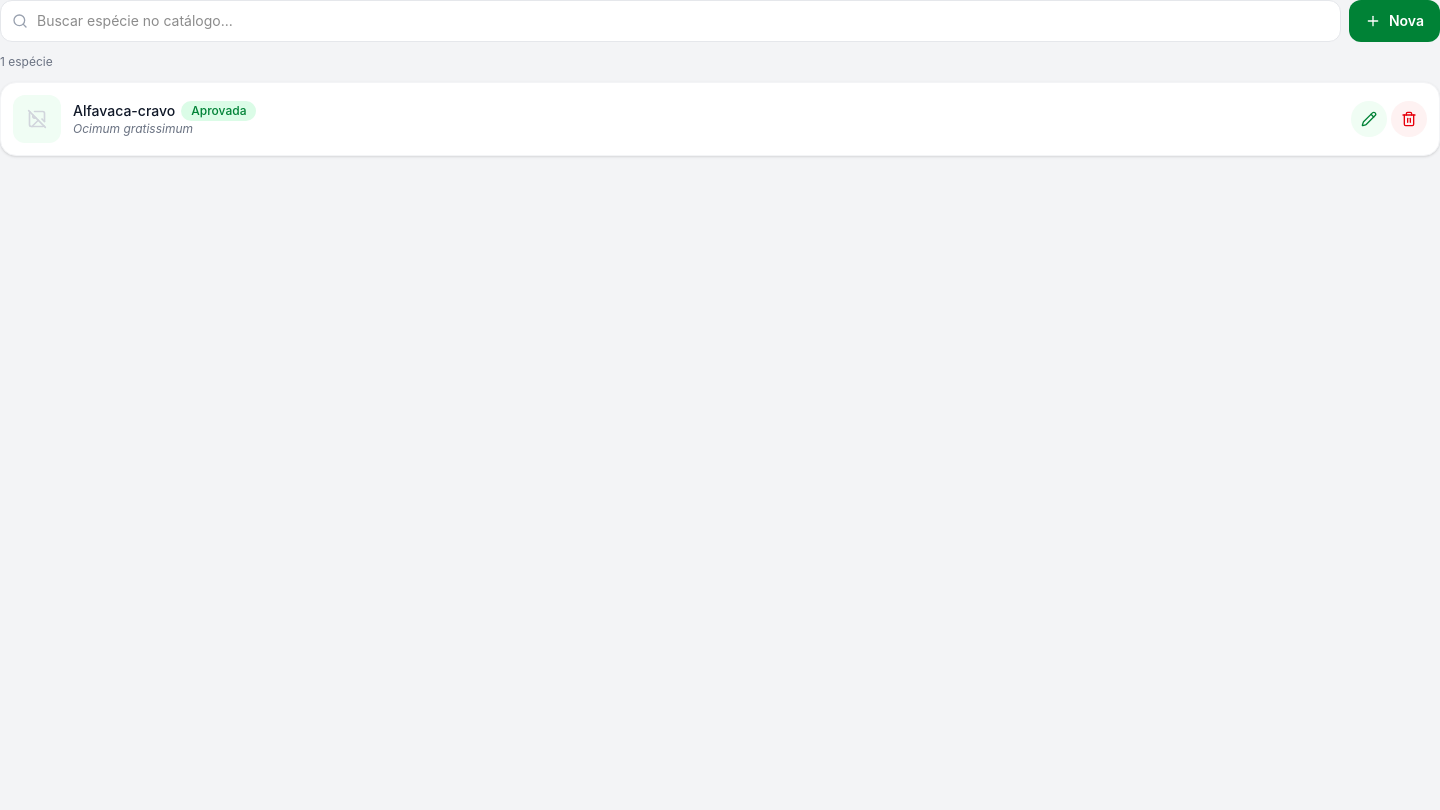
Test case: SpeciesCatalogManager › edita uma espécie existente pelo formulário pré-preenchido
Step 1. Click the button named "editar alfavaca-cravo" → [1369, 119], box [1351,101,1387,137]
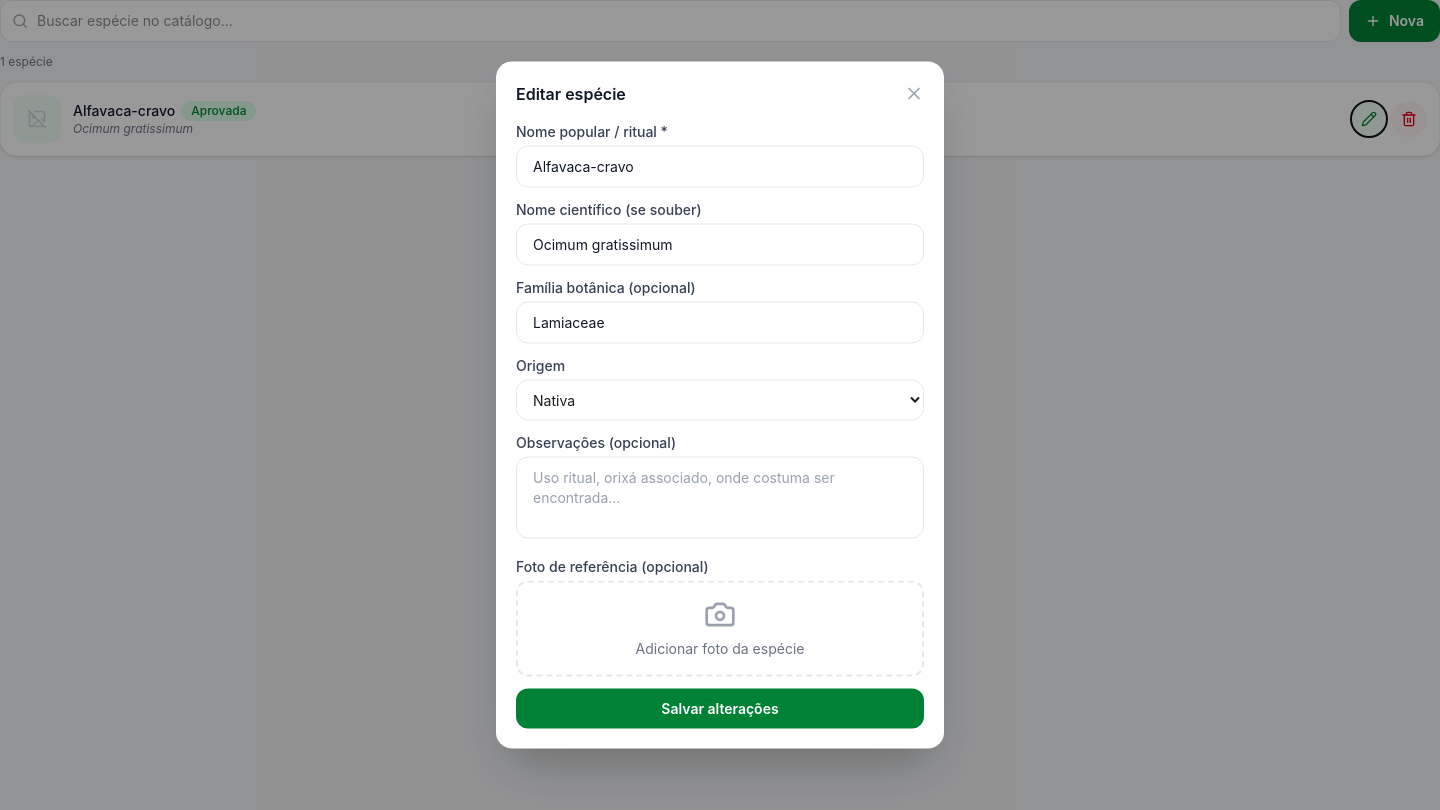
Check: the field with placeholder "Ex: Guiné, Comigo-ninguém-pode..." below "Nome popular / ritual *" holds "Alfavaca-cravo"
Step 2. Replace the text in the field with placeholder "Ex: Guiné, Comigo-ninguém-pode..." below "Nome popular / ritual *" with "Alfavaca-cravo-editada" → [720, 166], box [516,146,924,188]
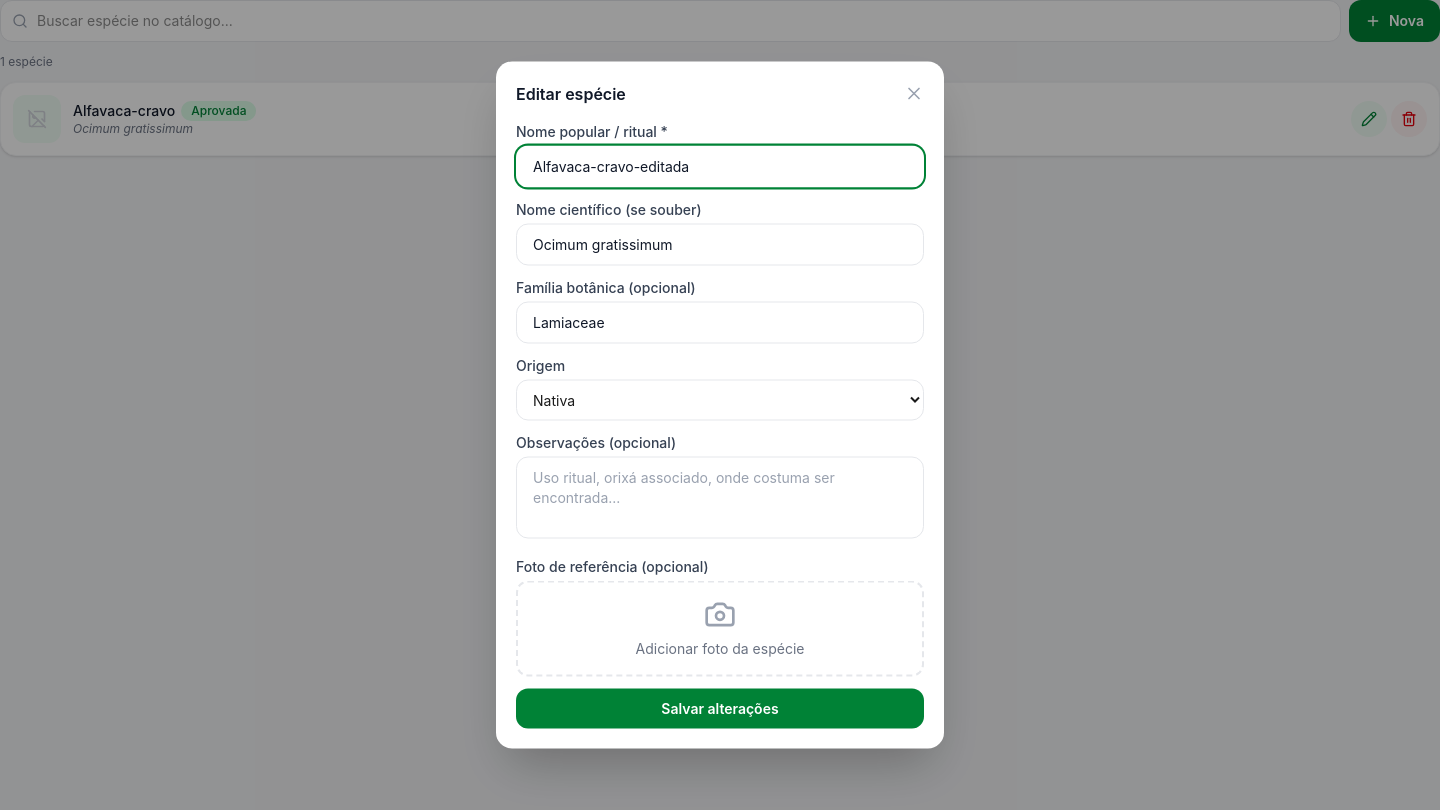
Step 3. Click the button "Salvar alterações" → [720, 708], box [516,688,924,728]
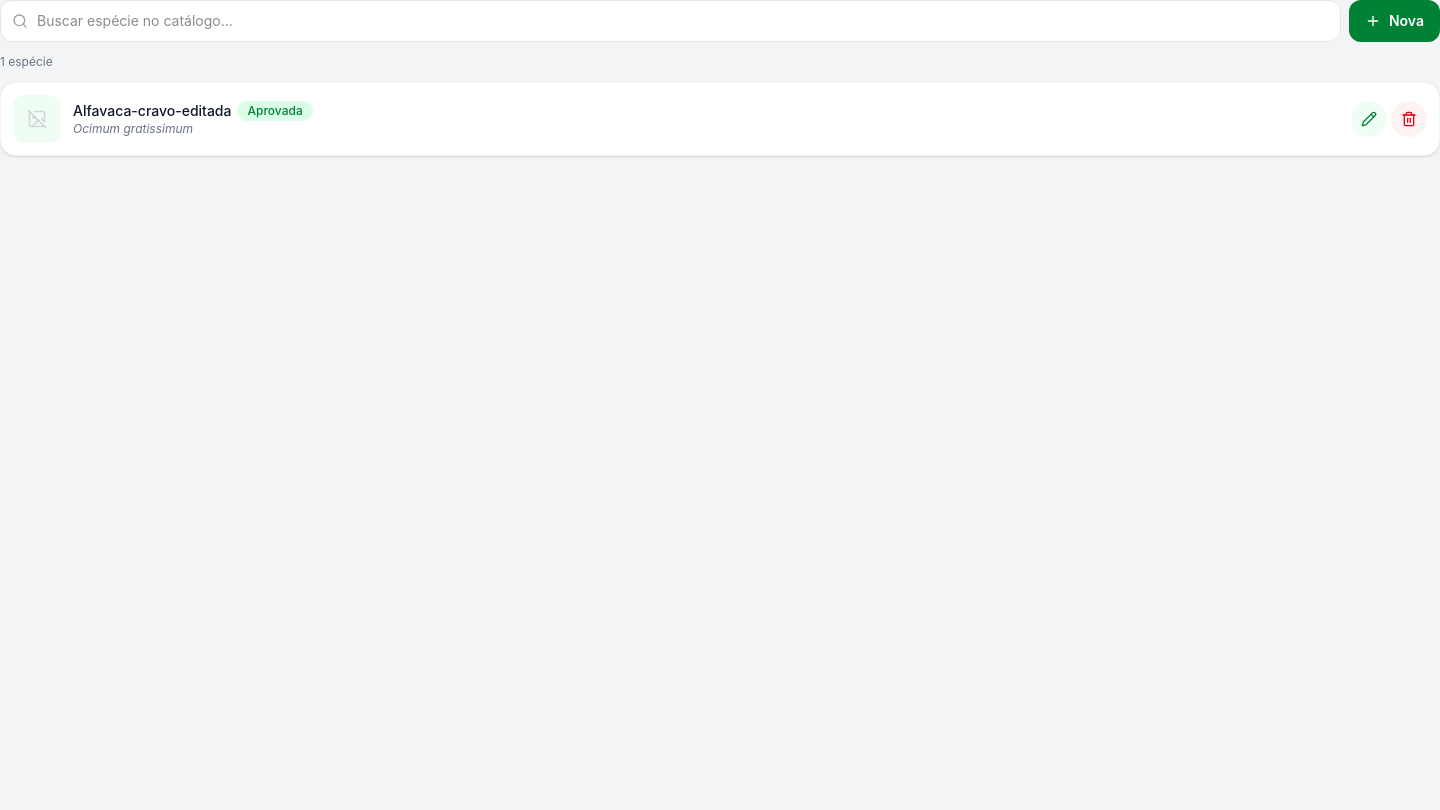
Check: the text "Alfavaca-cravo-editada" is shown, box [73,101,232,121]
